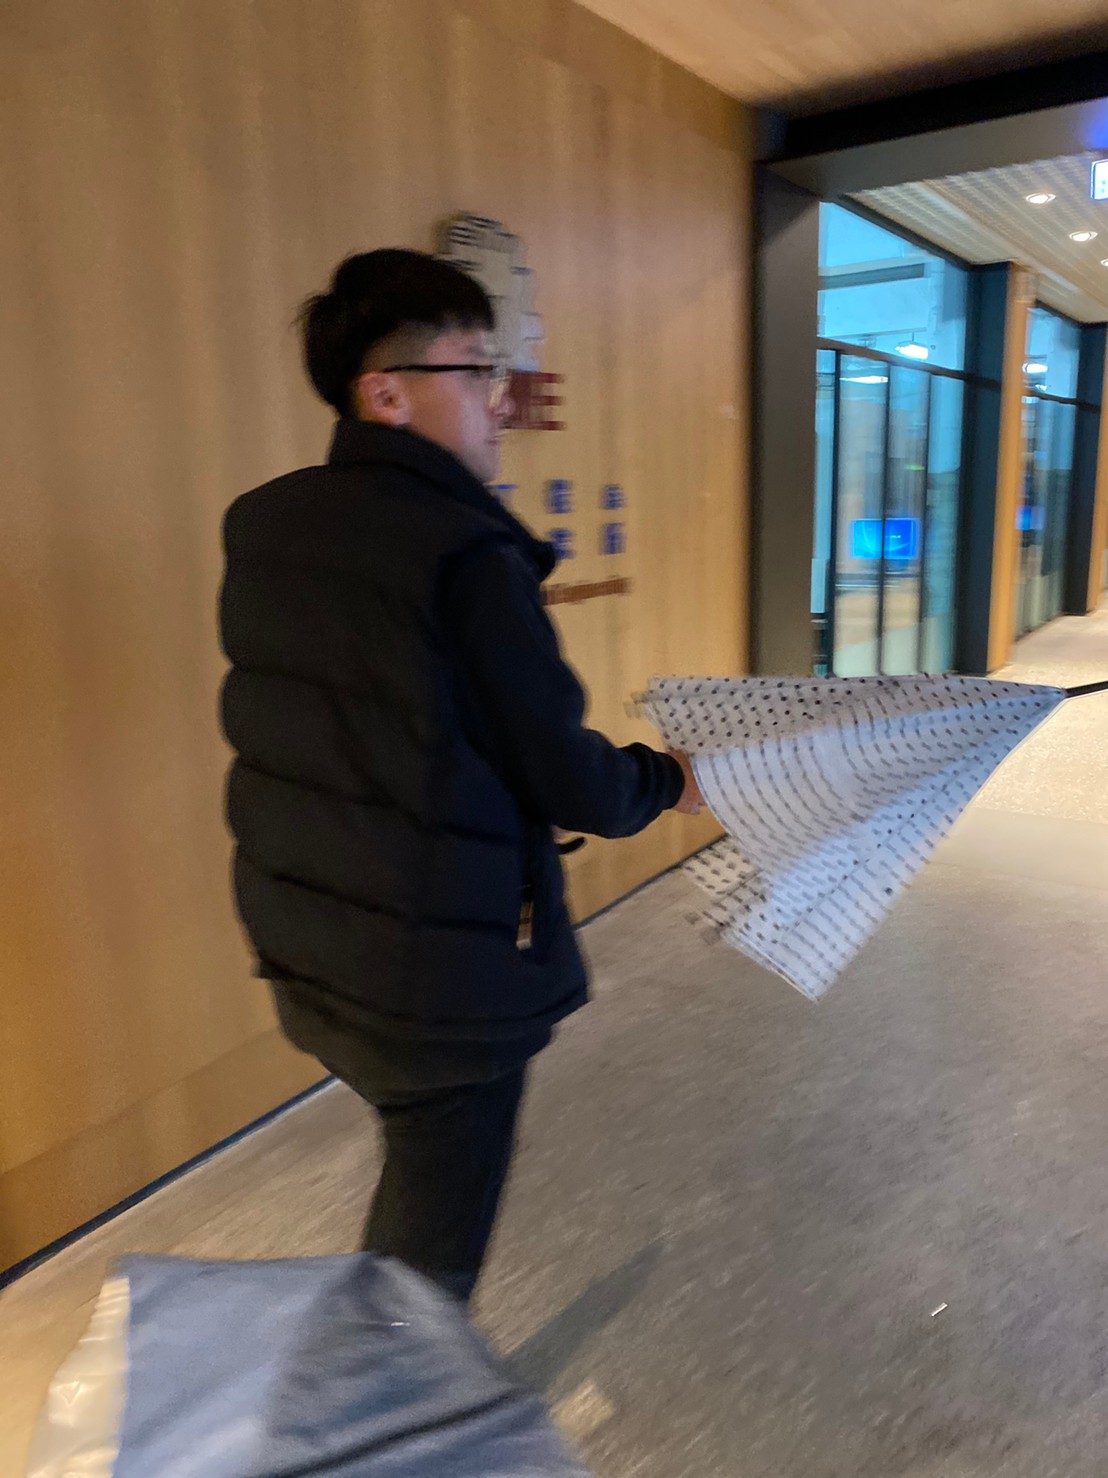people: (240, 247, 564, 1295)
